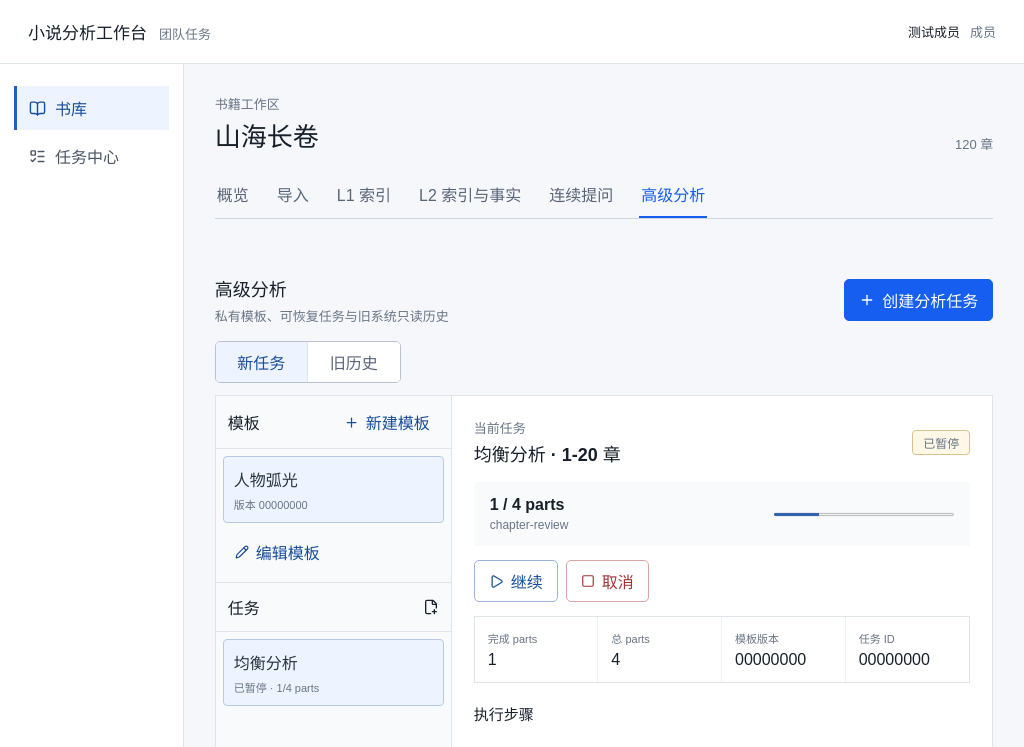
book-scoped advanced analysis workspace › reconciles a lost resume response and retries with one stable request key
This screenshot has width=1024, height=747.
Step 1. Click the button "继续" → {"x": 516, "y": 581}, box [474, 560, 558, 602]
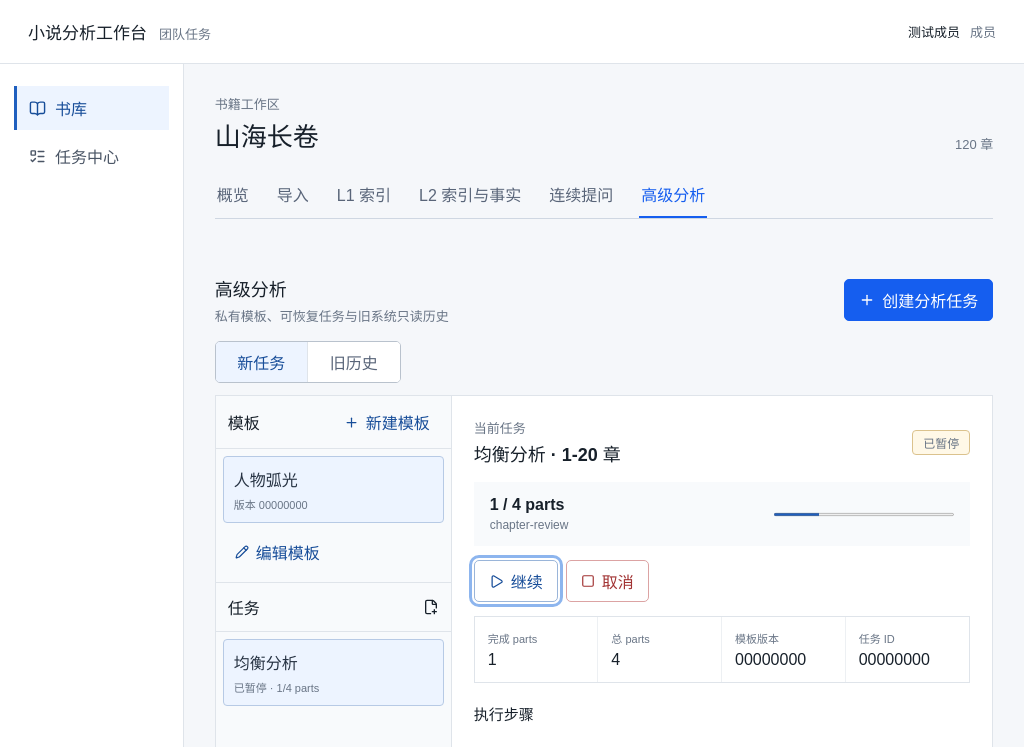
Step 2. Click the button "继续" → {"x": 516, "y": 581}, box [474, 560, 558, 602]
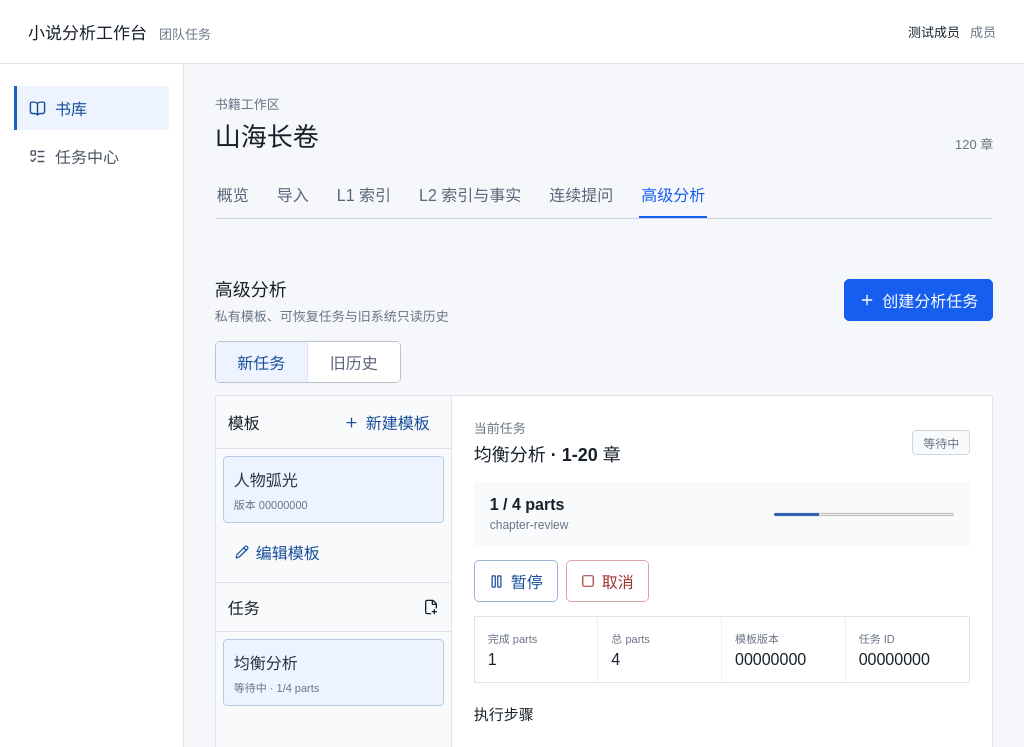
Check: the button "暂停" is shown, box [474, 560, 558, 602]
